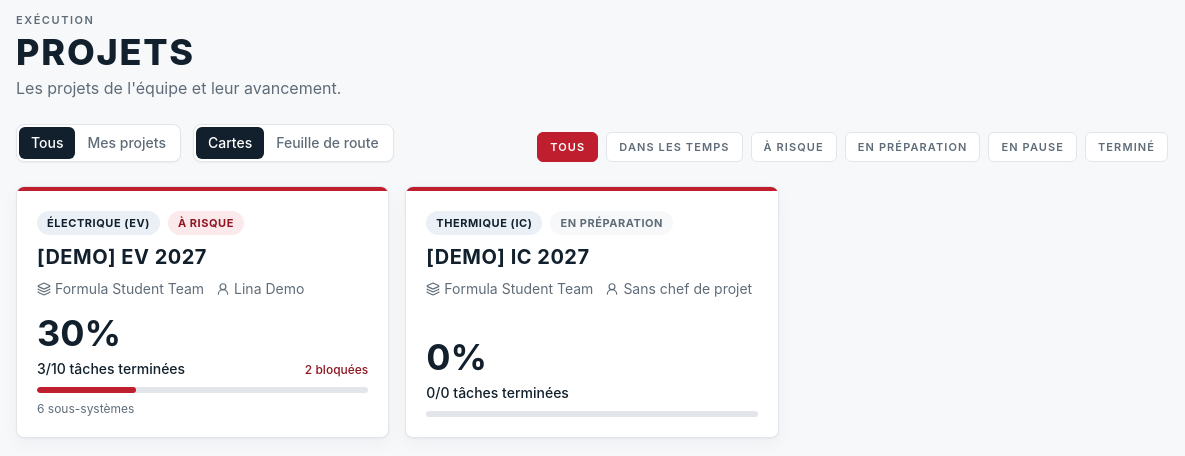
Test: ProjectsList › shows my projects, or the projects in one state
Check: the text "À risque" is shown, box [168,211,244,235]
Click the button "Mes projets". click: (127, 143)
box: [76,127,178,159]
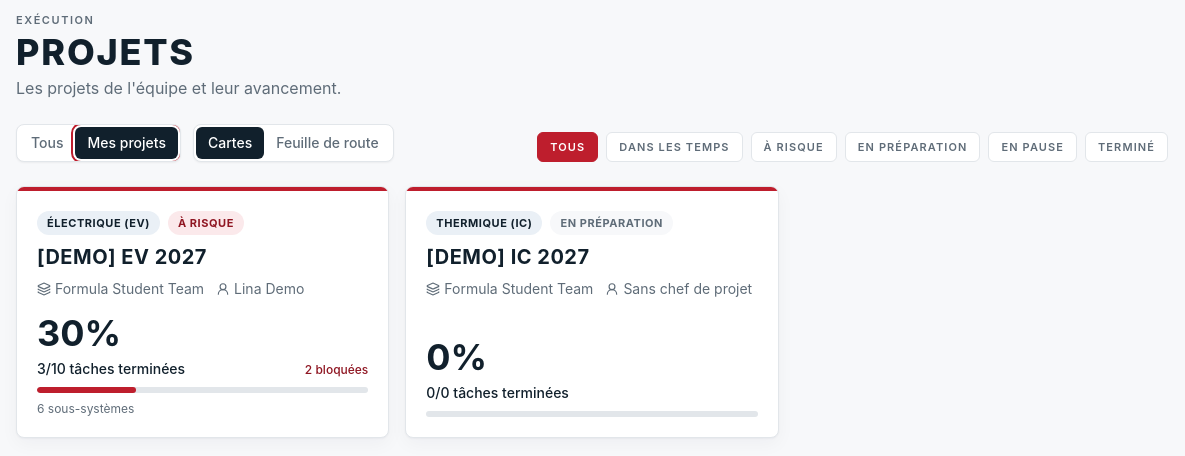
Click the button "En préparation". click: (913, 147)
box: [845,132,980,162]
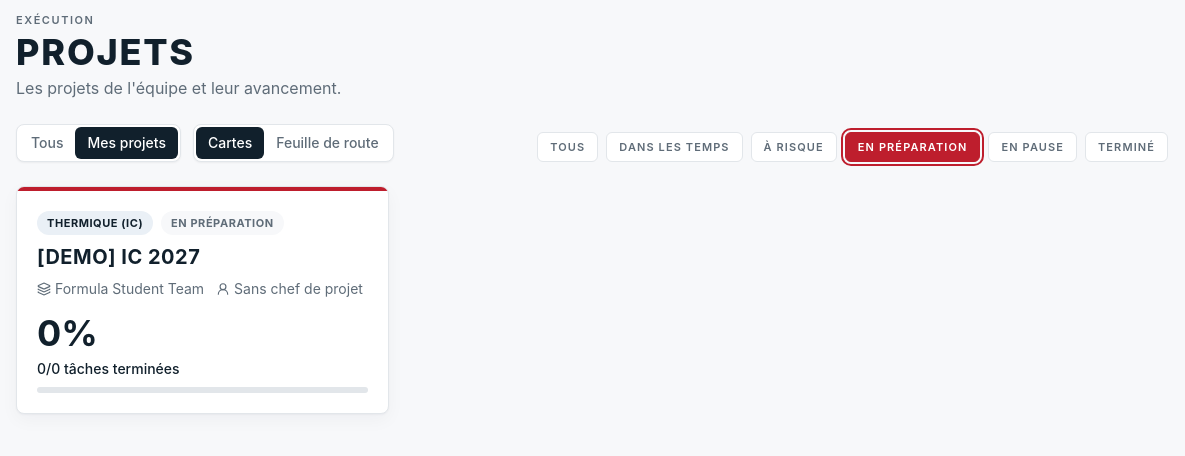
Check: the link "[DEMO] IC 2027" is shown, box [16,186,389,414]
Check: the link "[DEMO] EV 2027" is gone
